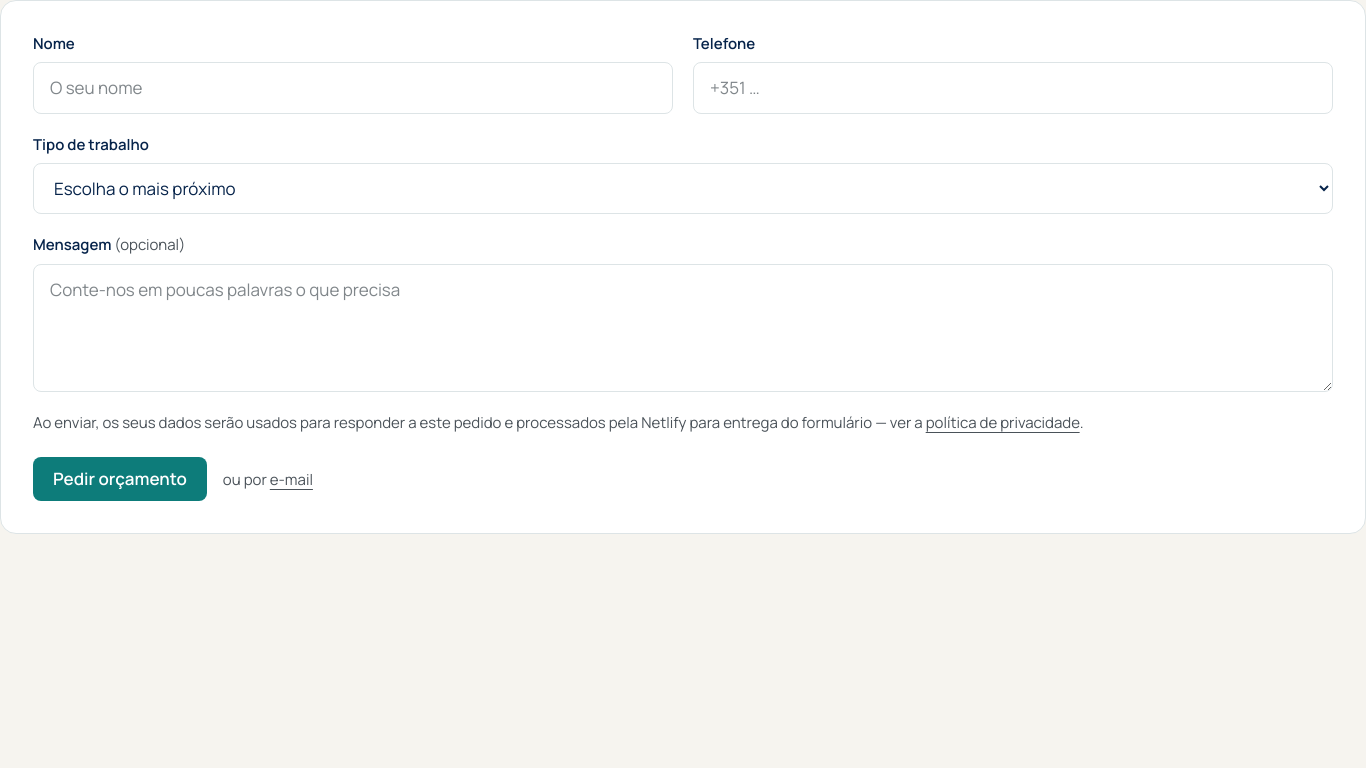
QuoteForm › envia URL-encoded para o HTML estático e confirma o sucesso
Type "Maria Silva" into the field labelled "Nome".
click(353, 88); type("Maria Silva")  # box [33,62,673,114]
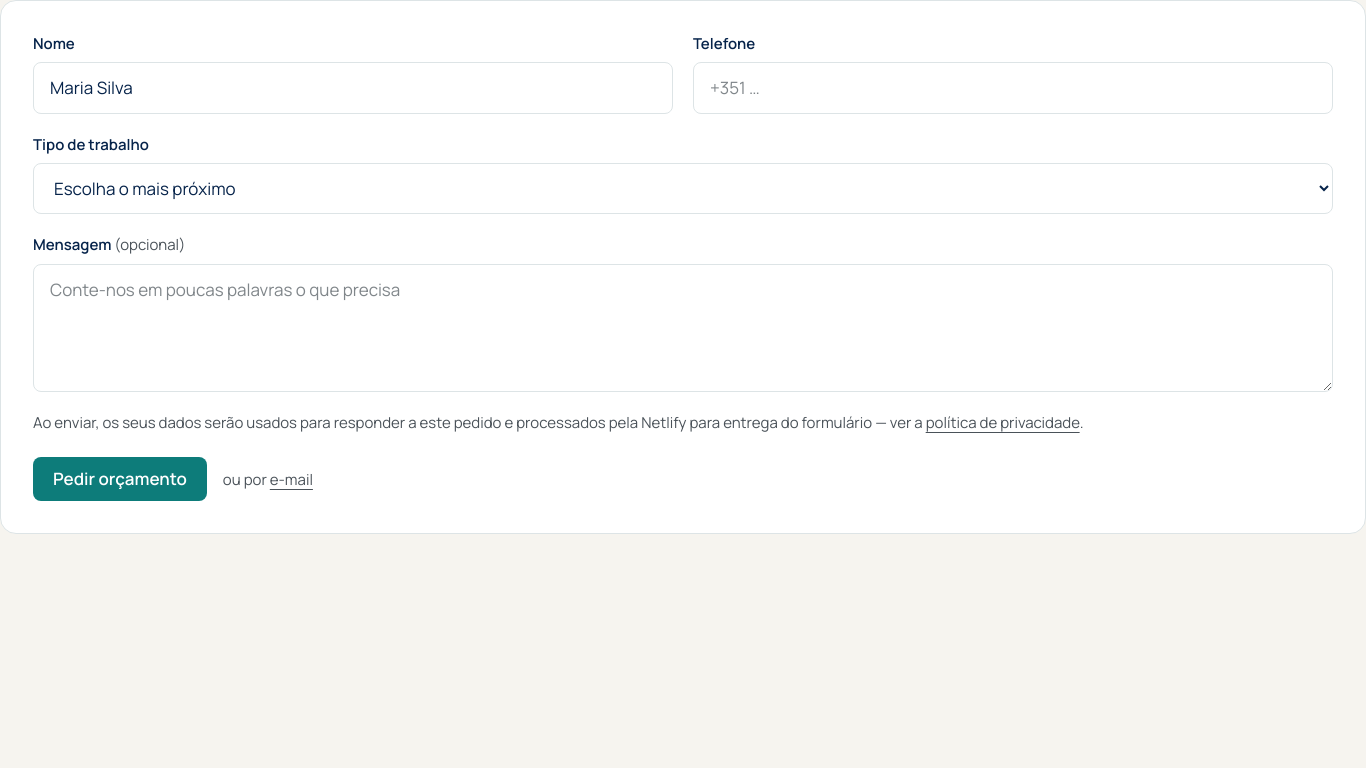
Type "+351 912 345 678" into the field labelled "Telefone".
click(1013, 88); type("+351 912 345 678")  # box [693,62,1333,114]
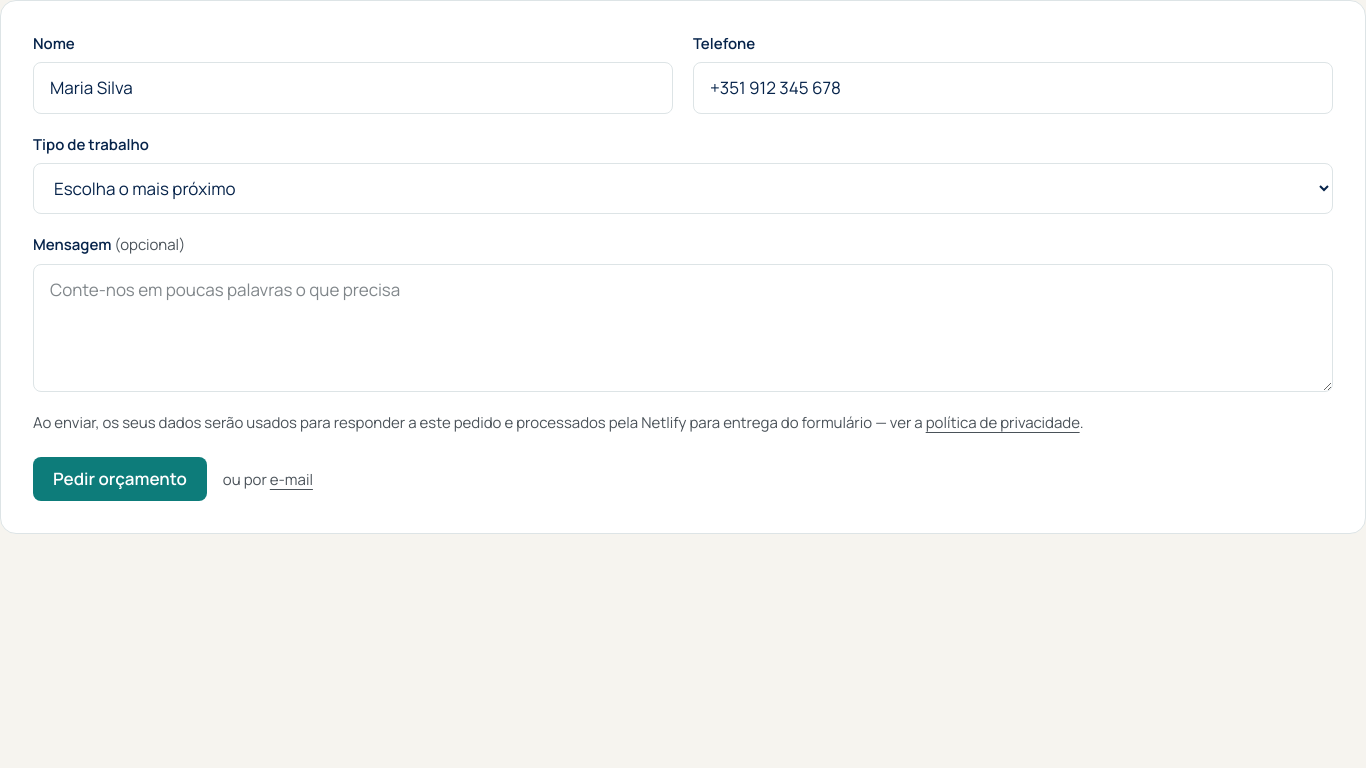
Select "Pintura interior e exterior" in the dropdown labelled "Tipo de trabalho" at (683, 189), box [33,163,1333,214]
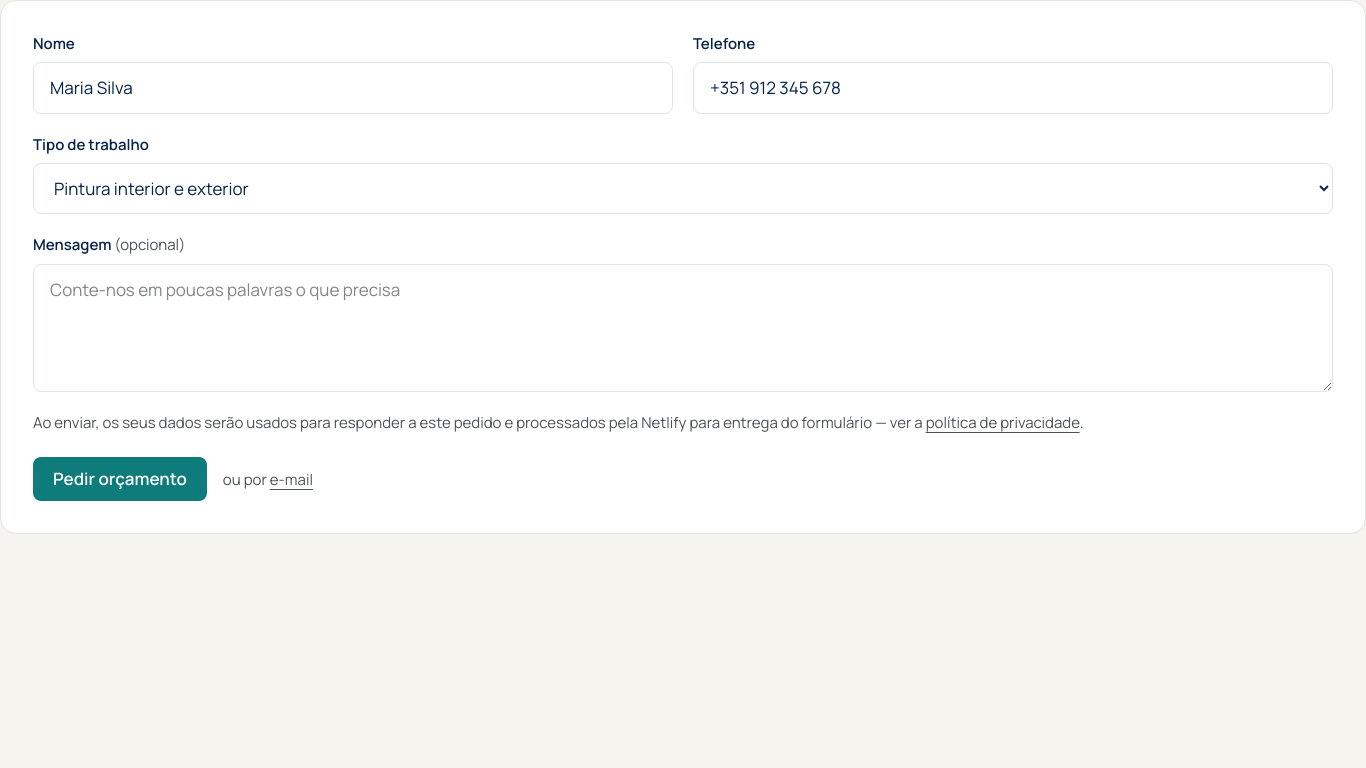
Type "Pintura da sala" into the text box labelled "Mensagem (opcional)".
click(683, 328); type("Pintura da sala")  # box [33,264,1333,392]
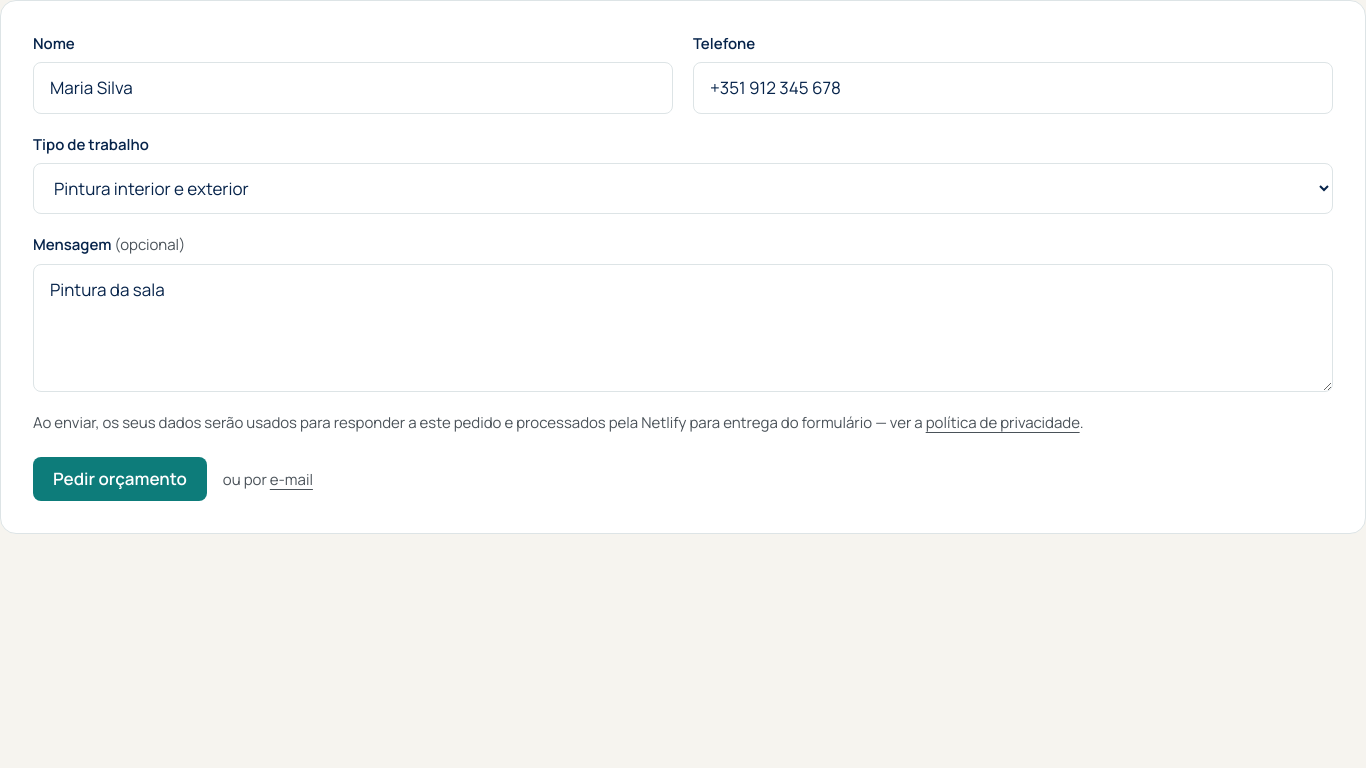
Click the button "Pedir orçamento".
click(120, 479)  # box [33,457,207,501]
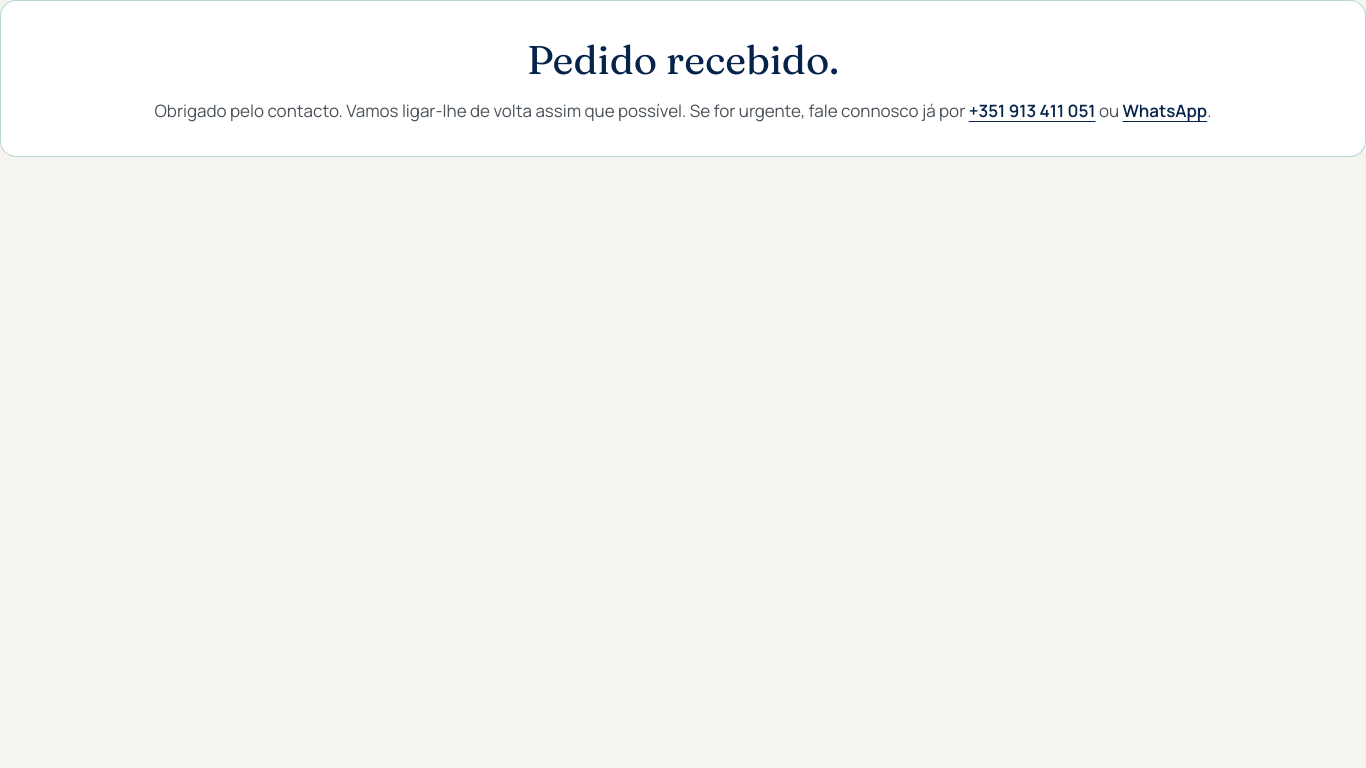
Check: the message shows "Pedido recebido", box [527,35,839,84]
Check: the message shows "WhatsApp", box [1122,99,1207,122]
